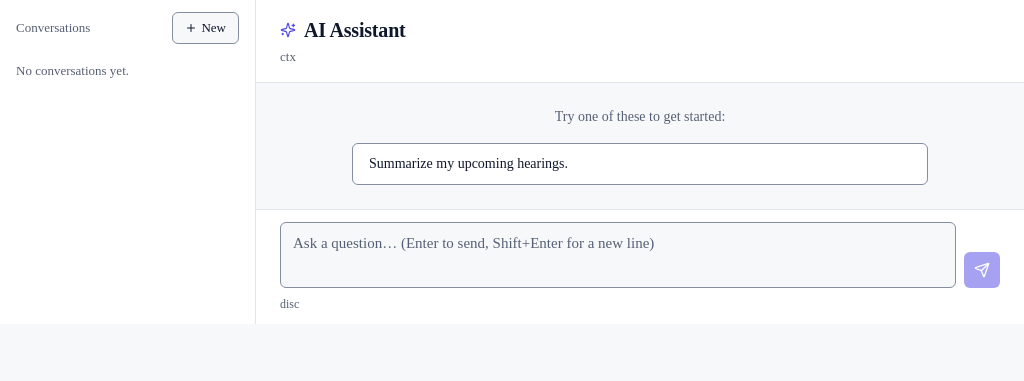
Scenario: AssistantChat › shows suggestions and sends only the message (no role/terminal/firm fields)
Step 1. Click the button "Summarize my upcoming hearings." → [469, 164], box 352,143 -> 928,185
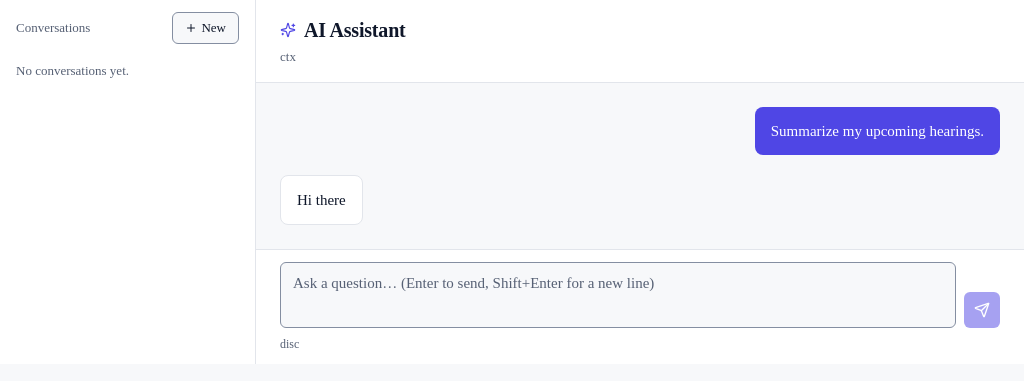
Check: the text "Hi there" is shown, box 297,188 -> 346,212
